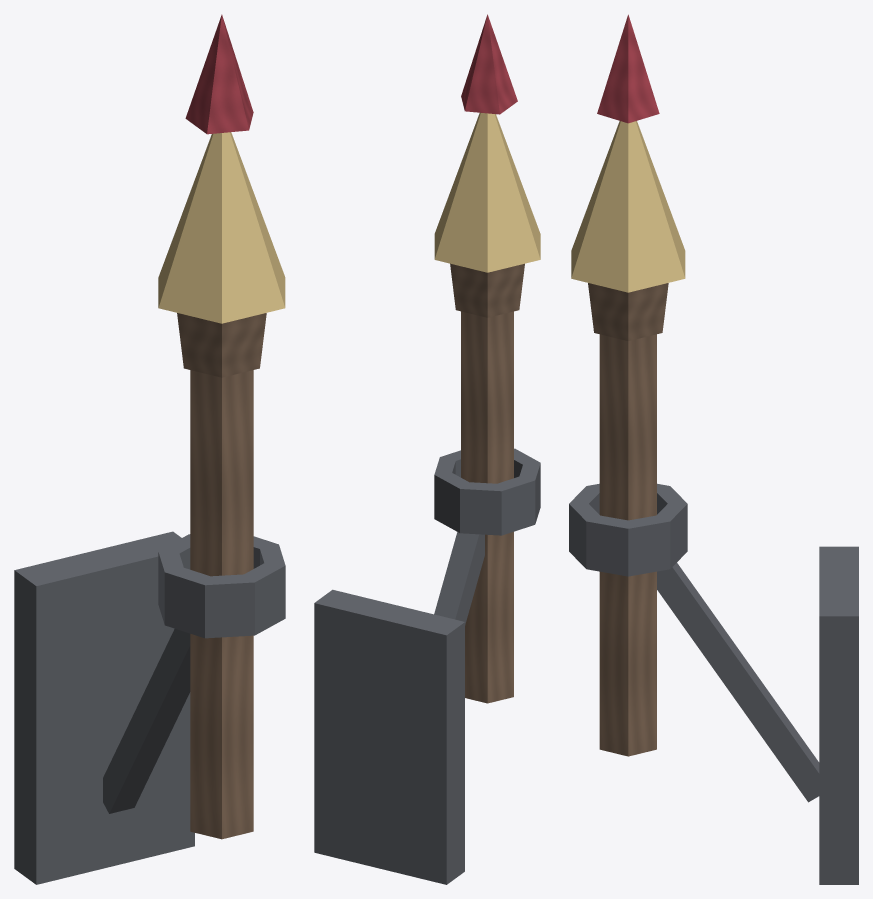
The model's file is vampire-crypt-and-gothic-cathedral-torch-sconce-fddc8243__22996.glb.
3 renders of one model, left to right at view 1: azimuth 30°, elevation 25°; view 2: azimuth 150°, elevation 25°; view 3: azimuth 270°, elevation 25°, orthographic. The views are drawn at different scales.
Visible parts, largest first — view 1: torch-sconce; view 2: torch-sconce; view 3: torch-sconce.
Part boxes in pixels (box(x1,y1,x2,y2)): torch-sconce: box(14, 14, 285, 884); torch-sconce: box(314, 14, 540, 884); torch-sconce: box(569, 14, 858, 884).
Bounding box in the file's own units: 0.25 × 1.4 × 0.44.
Materials: 4 (2 with a texture image).
